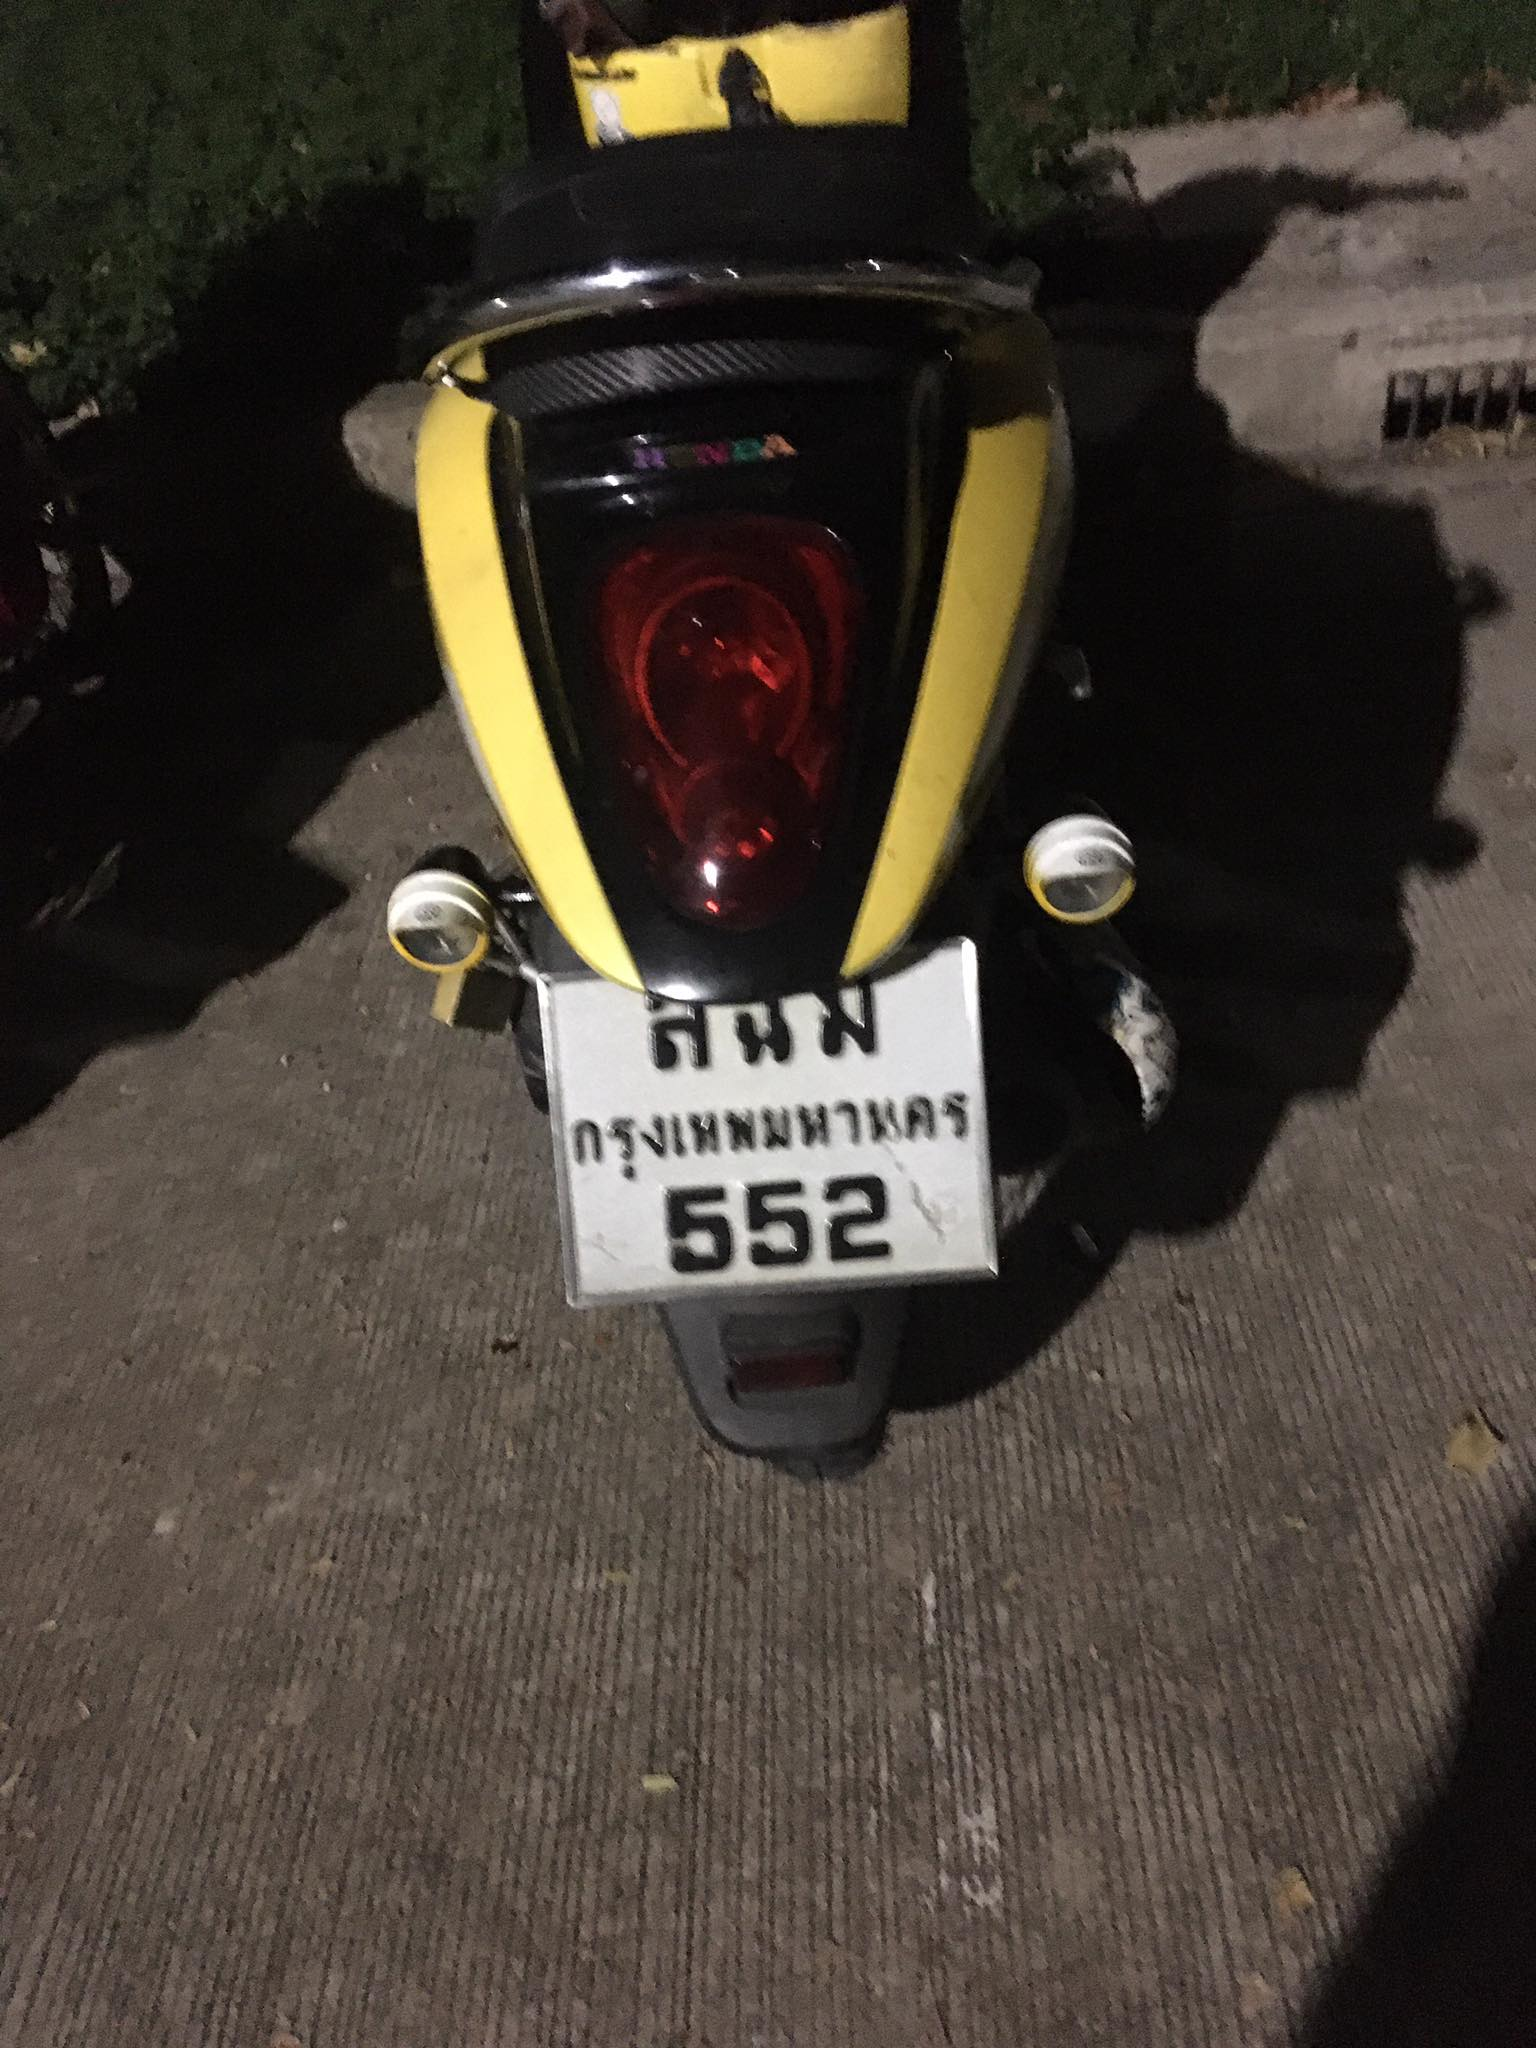line1: (637, 951, 887, 1077)
line2: (570, 1080, 979, 1177)
line3: (644, 1177, 907, 1284)
